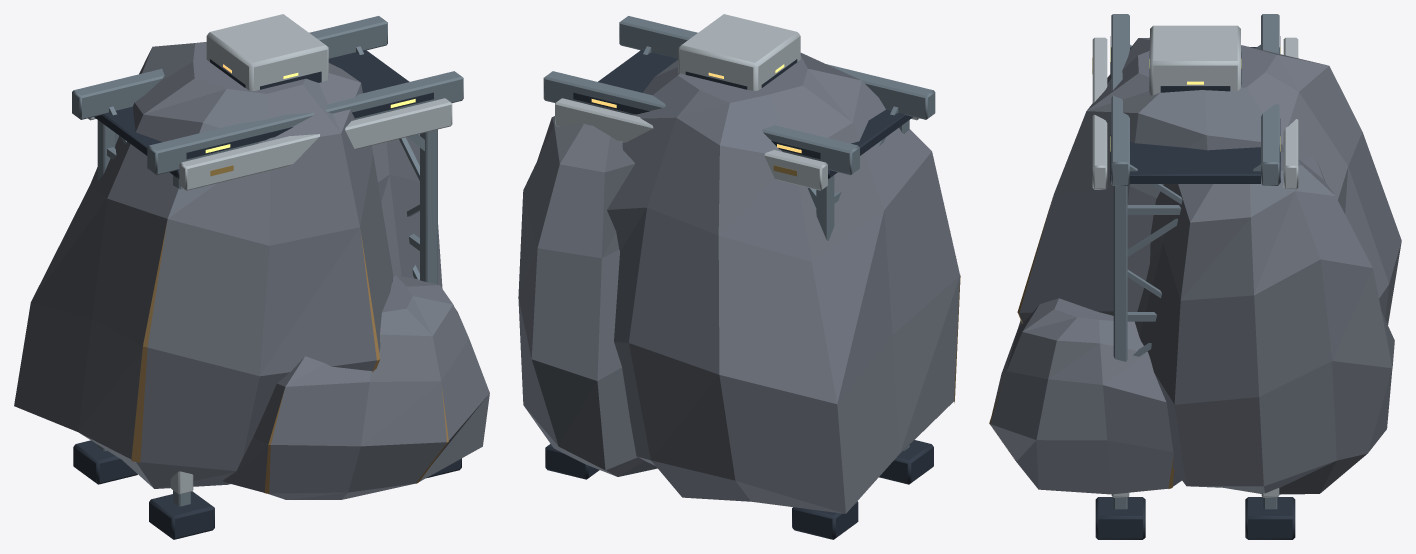
The model's file is kit-low-v1.glb.
3 views of the same model, side by side, from view 1: azimuth 30°, elevation 25°; view 2: azimuth 150°, elevation 25°; view 3: azimuth 270°, elevation 25° (orthographic).
Visible parts, largest first — view 1: asteroid-crag_rock, mining-gantry_alloy, mining-gantry_ceramic, mining-gantry_graphite, asteroid-crag_ore; view 2: asteroid-crag_rock, mining-gantry_ceramic, mining-gantry_alloy, mining-gantry_graphite; view 3: asteroid-crag_rock, mining-gantry_alloy, mining-gantry_graphite, mining-gantry_ceramic.
Part boxes in pixels (bbox=[...]): asteroid-crag_rock: bbox=[14, 42, 489, 499]; mining-gantry_alloy: bbox=[72, 16, 463, 506]; mining-gantry_ceramic: bbox=[88, 14, 452, 494]; mining-gantry_graphite: bbox=[73, 50, 461, 539]; asteroid-crag_ore: bbox=[131, 223, 448, 493]; asteroid-crag_rock: bbox=[518, 53, 960, 513]; mining-gantry_ceramic: bbox=[555, 14, 919, 190]; mining-gantry_alloy: bbox=[543, 16, 935, 450]; mining-gantry_graphite: bbox=[545, 50, 933, 539]; asteroid-crag_rock: bbox=[990, 37, 1401, 494]; mining-gantry_alloy: bbox=[1111, 14, 1279, 509]; mining-gantry_graphite: bbox=[1095, 36, 1295, 539]; mining-gantry_ceramic: bbox=[1092, 25, 1298, 497].
Bounding box in the file's own units: 14 × 16 × 14.
